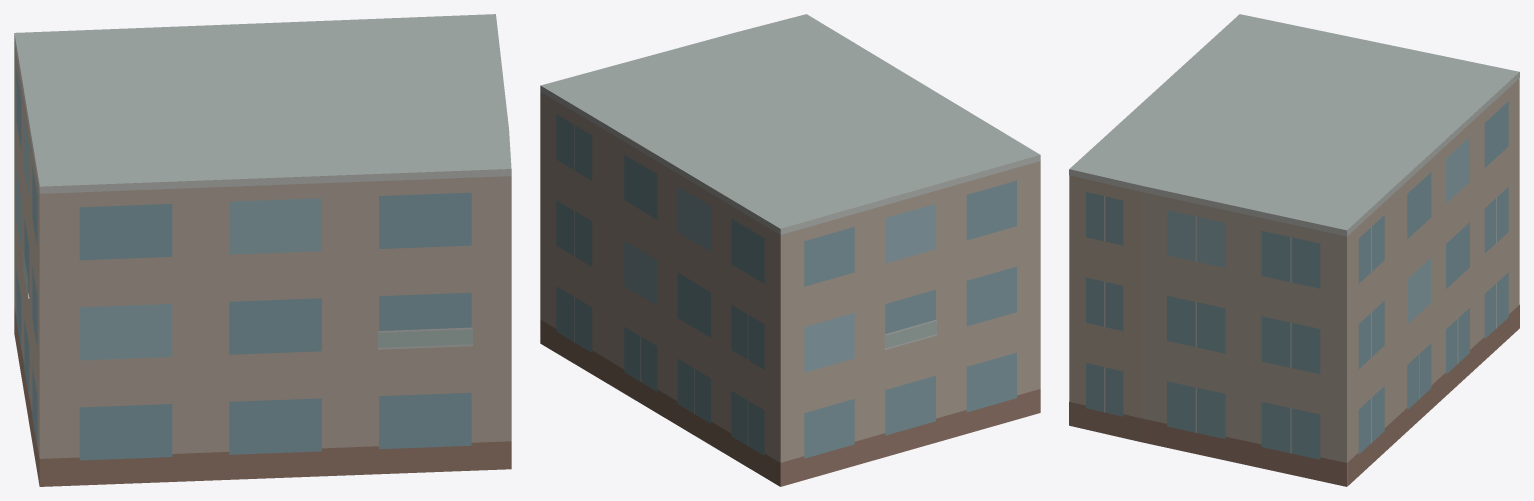
Rendered from survey-upis-32848706.glb.
3 renders of one model, left to right at view 1: azimuth 30°, elevation 25°; view 2: azimuth 150°, elevation 25°; view 3: azimuth 270°, elevation 25°, orthographic. The views are drawn at different scales.
Visible parts, largest first — view 1: survey-upis-32848706.tmp; view 2: survey-upis-32848706.tmp; view 3: survey-upis-32848706.tmp.
Part boxes in pixels (x1,y1,x2,y2): survey-upis-32848706.tmp: (14,14,511,486); survey-upis-32848706.tmp: (540,14,1040,486); survey-upis-32848706.tmp: (1069,14,1519,486).
Size of the model in its own units: 18.46 by 10.2 by 16.25.
